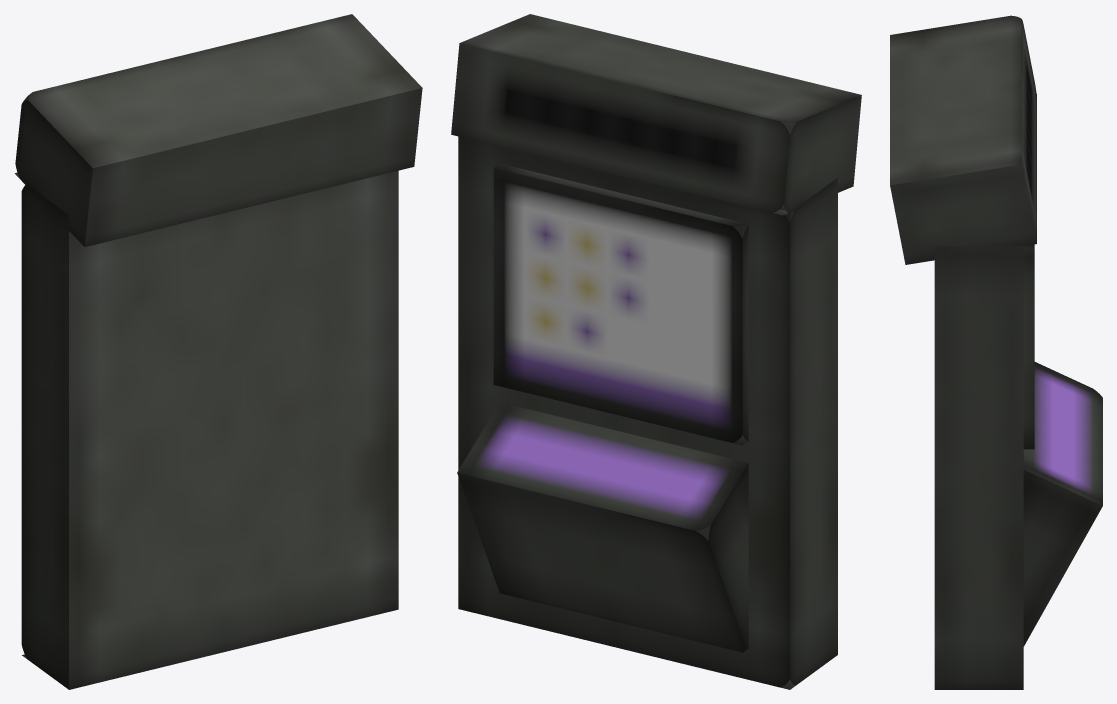
Rendered from keycard_screen_laboratory.obj.
3 views of the same model, side by side, from view 1: azimuth 30°, elevation 25°; view 2: azimuth 150°, elevation 25°; view 3: azimuth 270°, elevation 25° (orthographic). The views are drawn at different scales.
Parts seen in each view (by area): view 1: nx, nA; view 2: nx, nz, nA, ny; view 3: nx, nA, ny, nz.
Part boxes in pixels (bbox=[...]): nx: bbox=[21, 170, 398, 689]; nA: bbox=[15, 14, 422, 246]; nx: bbox=[458, 136, 837, 689]; nz: bbox=[493, 163, 790, 445]; nA: bbox=[451, 14, 861, 215]; ny: bbox=[457, 402, 748, 652]; nx: bbox=[934, 246, 1023, 689]; nA: bbox=[890, 15, 1036, 264]; ny: bbox=[1023, 362, 1102, 646]; nz: bbox=[1023, 244, 1034, 449].
Size of the model in its own units: 0.5 by 0.8138 by 0.2989.
Materials: 1 (1 with a texture image).
